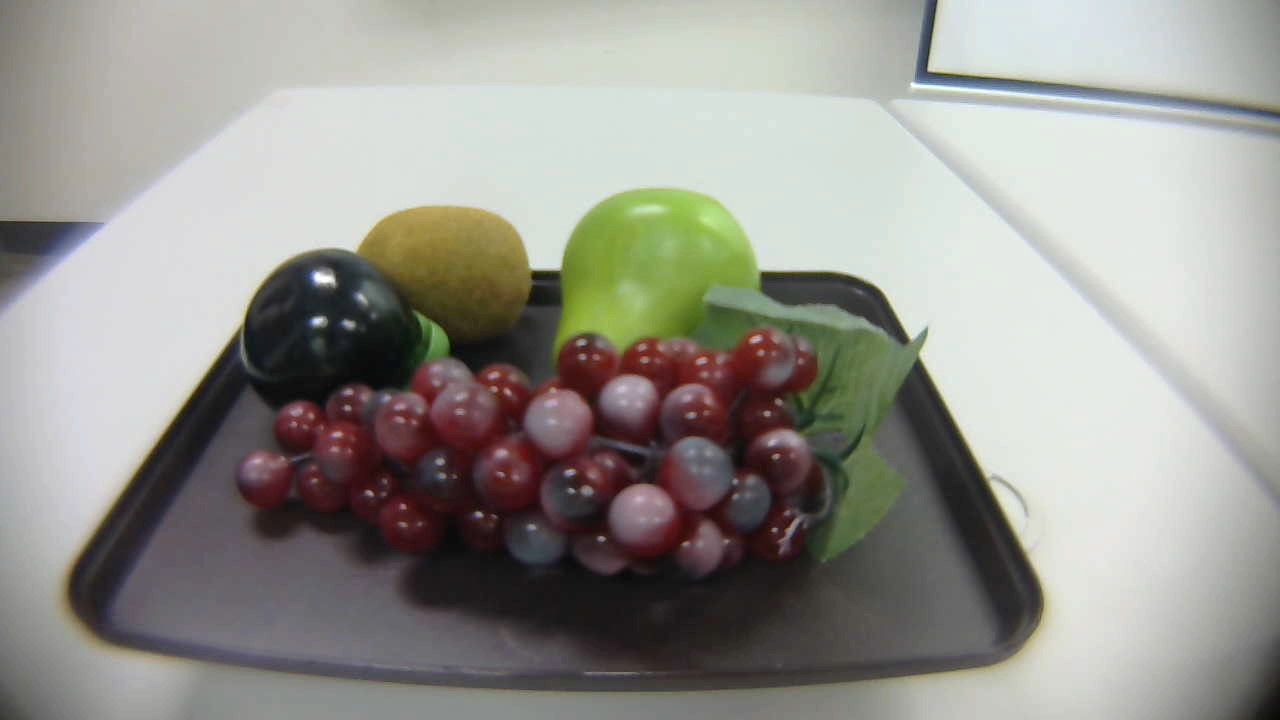grape: (238, 286, 938, 596)
green pear: (542, 186, 768, 386)
kiwi fruit: (337, 206, 537, 358)
mangosteen: (227, 248, 456, 409)
